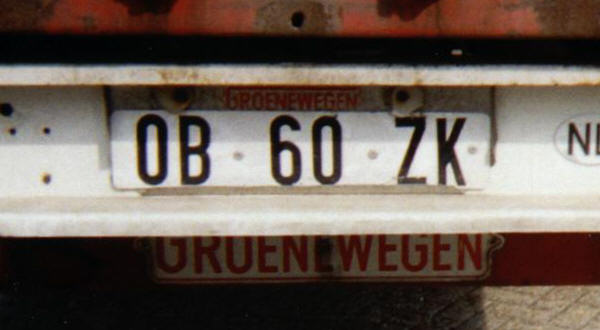license_plate: (109, 106, 493, 191)
